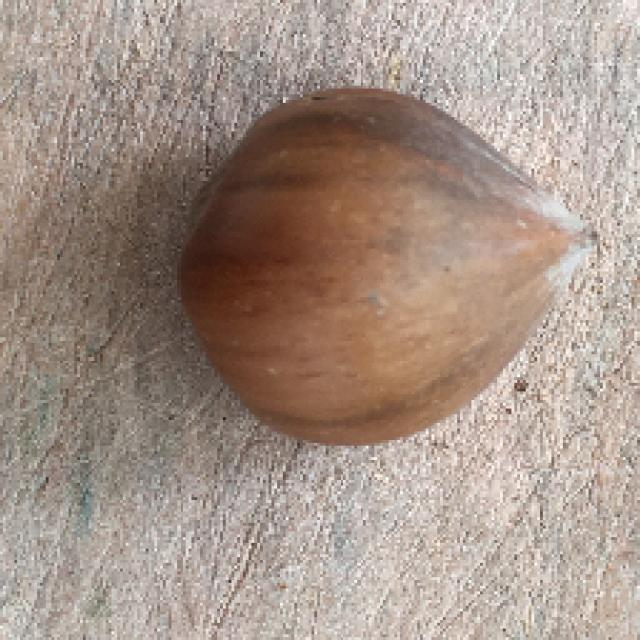qualityHazelnut: (185, 86, 593, 438)
